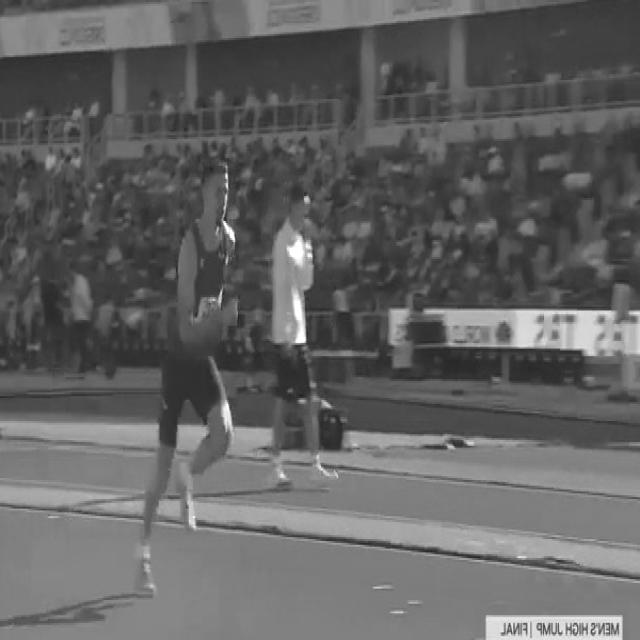run: (134, 154, 240, 588)
